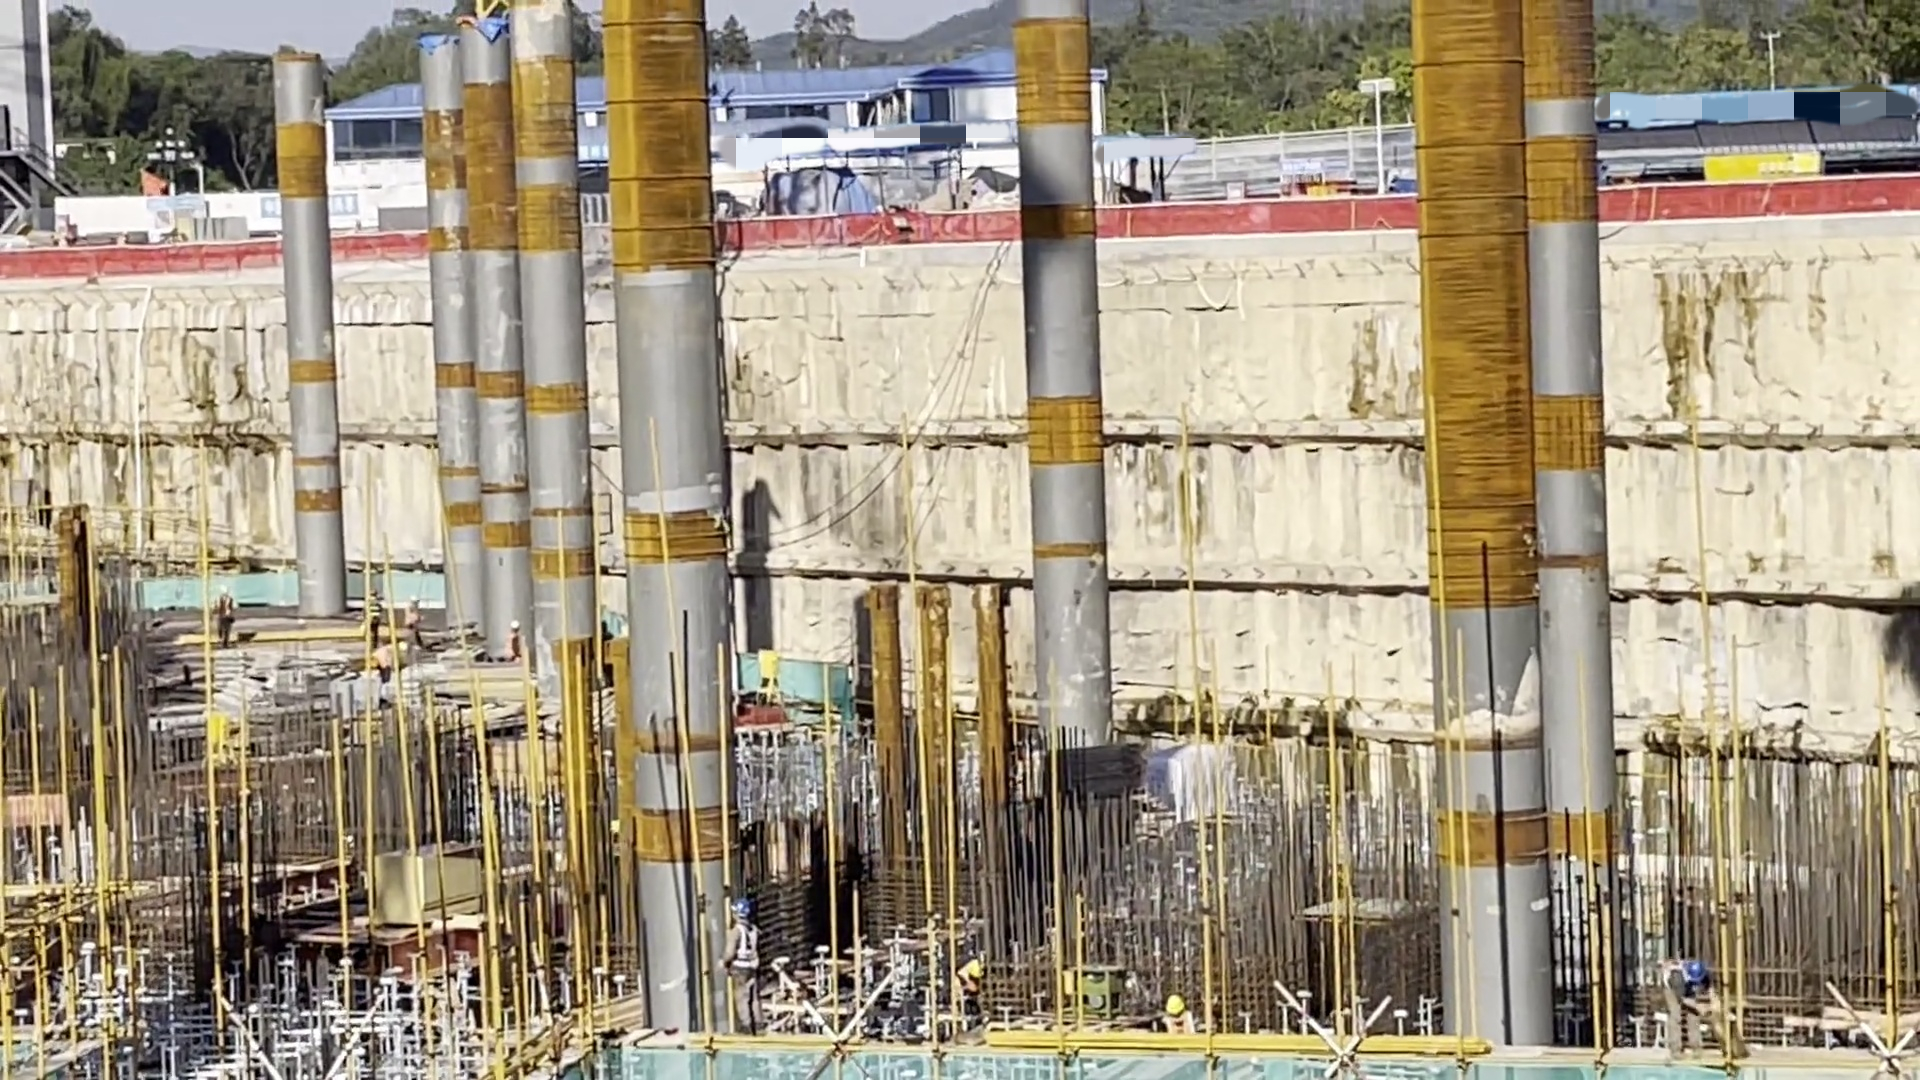helmet: (968, 959, 995, 991), (1678, 960, 1708, 981), (728, 901, 753, 918), (1171, 999, 1186, 1016), (405, 591, 422, 602), (221, 584, 231, 597), (513, 622, 523, 632), (373, 586, 379, 595)
person: (1648, 941, 1722, 1062), (718, 894, 780, 1034), (949, 949, 990, 1019), (204, 583, 240, 646), (1156, 987, 1199, 1036), (354, 586, 383, 645), (401, 590, 424, 634), (509, 619, 524, 664)
vest: (1671, 962, 1708, 1036), (733, 914, 768, 984), (934, 979, 978, 1011), (215, 597, 233, 623), (366, 604, 381, 628), (1168, 1016, 1193, 1029), (409, 602, 422, 626), (513, 636, 521, 659)
